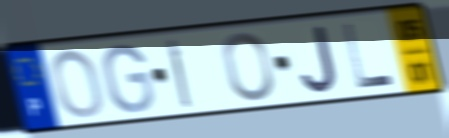G: (100, 41, 156, 115)
I: (164, 36, 195, 111)
J: (298, 23, 341, 96)
L: (340, 21, 398, 91)
O: (49, 47, 106, 120), (220, 30, 276, 104)
